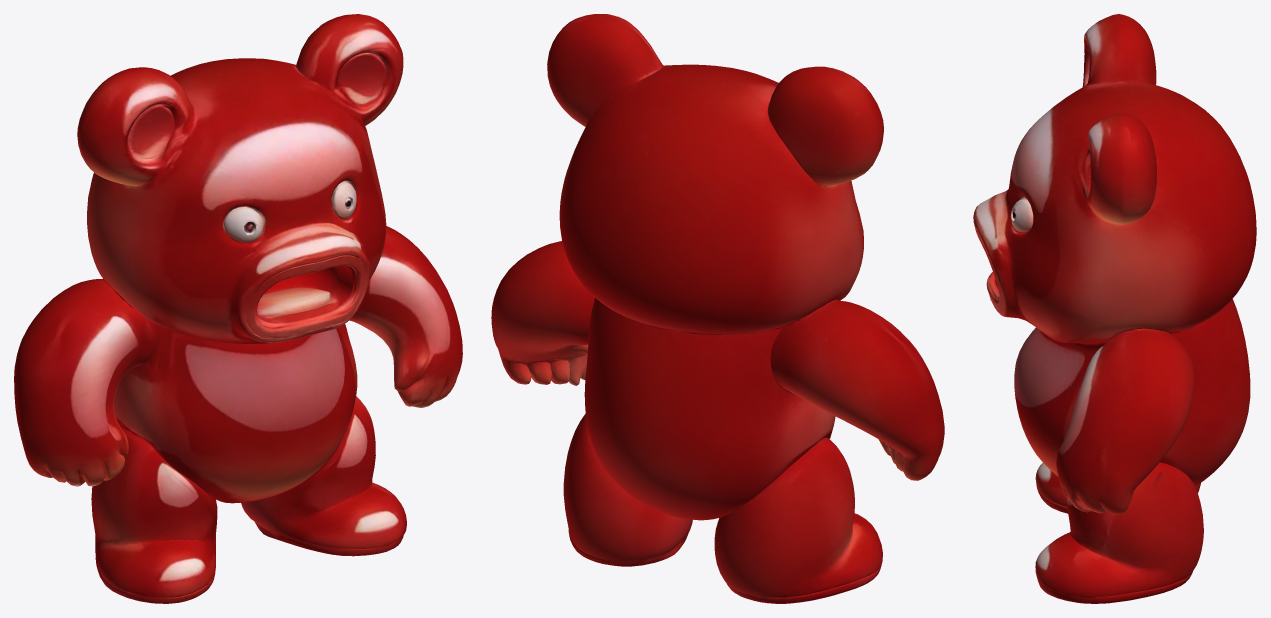
The model's file is m2GummyMonster.glb.
3 renders of one model, left to right at view 1: azimuth 30°, elevation 25°; view 2: azimuth 150°, elevation 25°; view 3: azimuth 270°, elevation 25°, orthographic. The views are drawn at different scales.
Visible parts, largest first — view 1: model; view 2: model; view 3: model.
Part boxes in pixels (x1,y1,x2,y2): model: (14,14,462,603); model: (491,14,944,603); model: (973,14,1256,603).
Bounding box in the file's own units: 1.7 × 1.9 × 1.03.
1 material, 1 textured.
